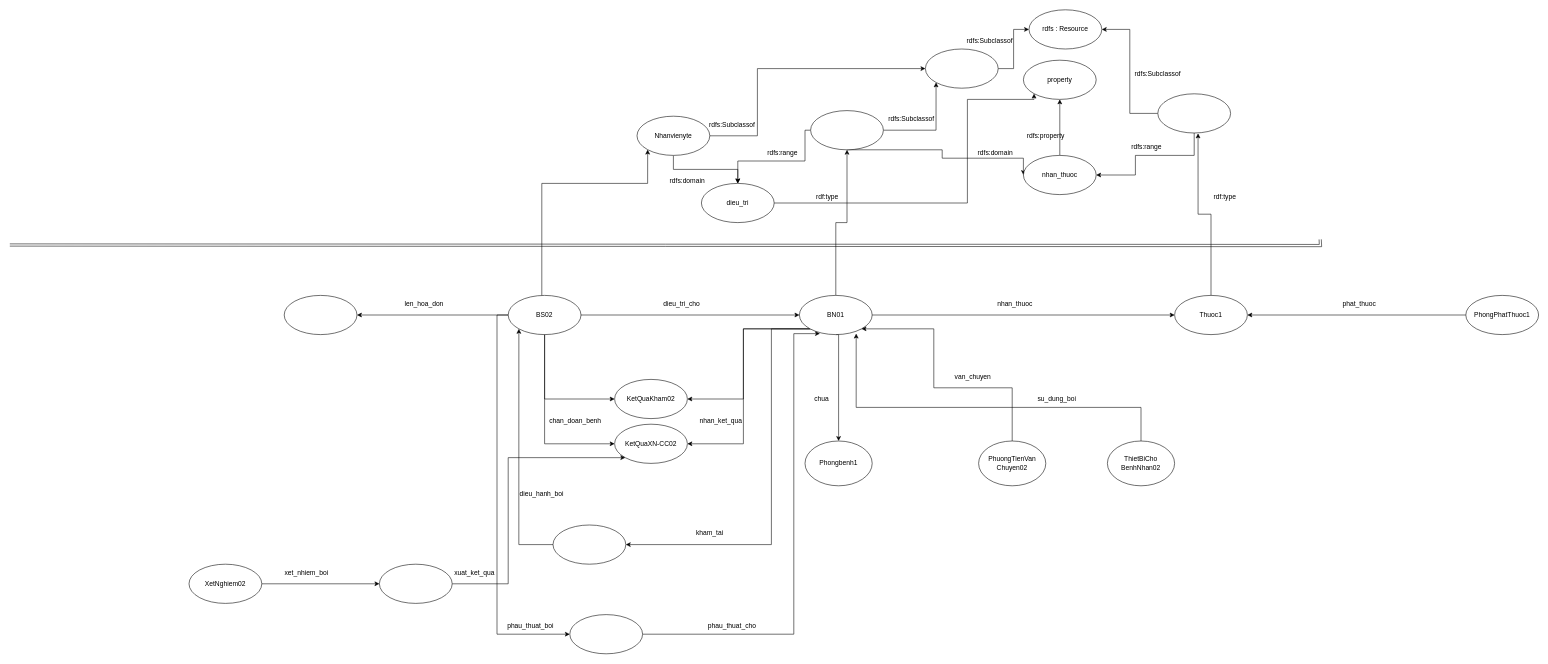
Image size: 1548x664. Some labels were removed from this diagram. Each missing label, with the box of its shape:
Benhnhan: (810, 110, 883, 150)
Connguoi: (925, 48, 998, 88)
HoaDonVienPhi02: (284, 295, 357, 335)
Phongkham1: (552, 524, 626, 564)
Phongphauthuat01: (569, 614, 643, 654)
PhongXNVaCC02: (379, 564, 452, 603)
Thuoc: (1157, 93, 1231, 133)
